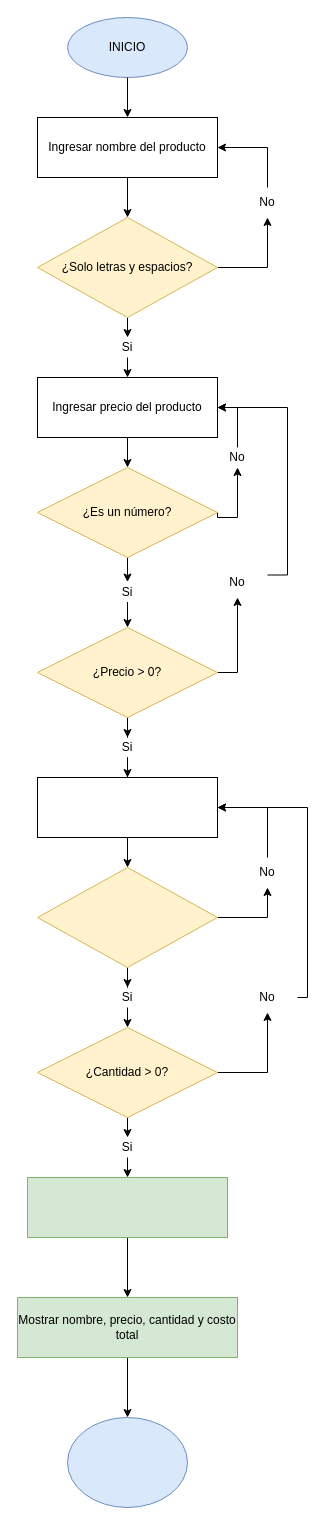
Some shapes in this 333 by 1533 pixel diagram are drawn without their labels. Here are the shapes that lost their labels. From the top down, the box of each, then its label:
(36, 776, 218, 838): Ingresar cantidad del producto
(36, 866, 218, 968): ¿Es número entero?
(26, 1176, 228, 1238): costo_total = precio * cantidad
(66, 1416, 188, 1508): FIN
